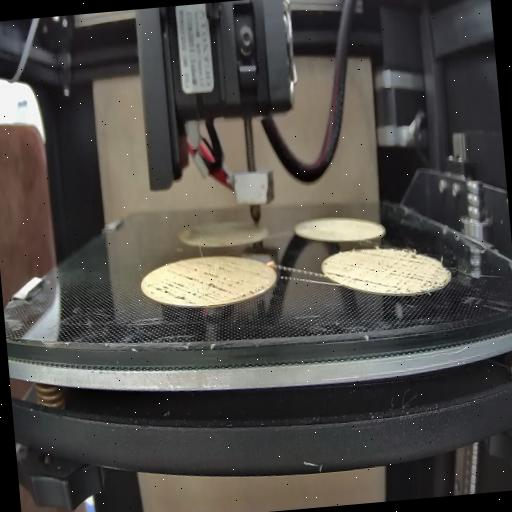under_extrusion: (144, 260, 266, 306), (346, 243, 444, 295), (321, 261, 346, 284)
